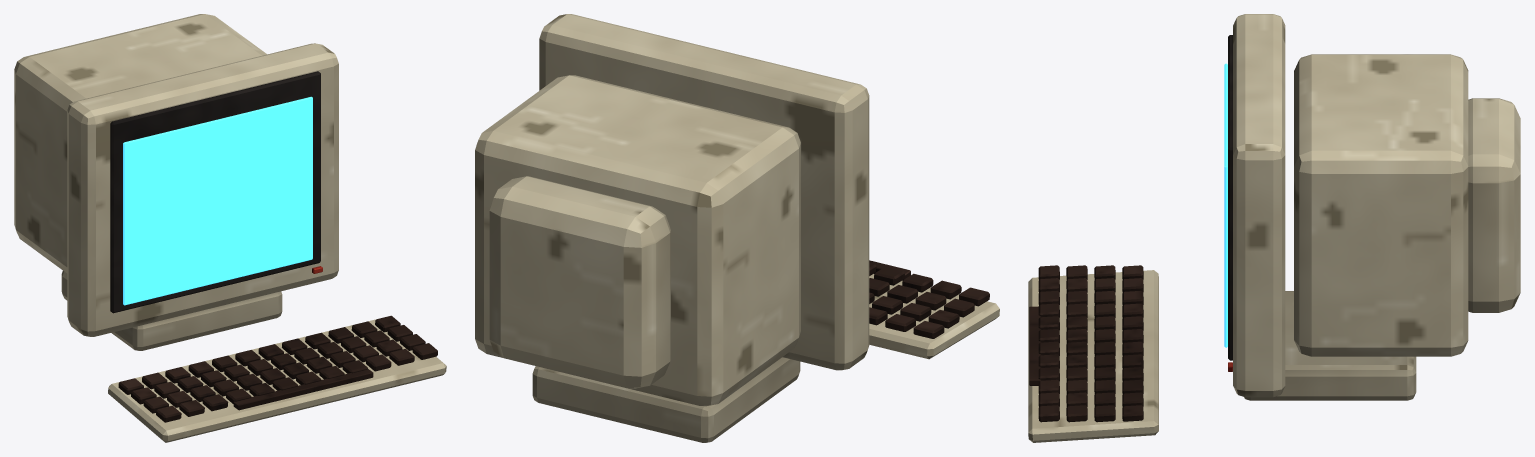
Rendered from computer_old.glb.
The picture shows the model from 3 angles, left to right: view 1: azimuth 30°, elevation 25°; view 2: azimuth 150°, elevation 25°; view 3: azimuth 270°, elevation 25°; orthographic projection. The views are drawn at different scales.
Parts seen in each view (by area): view 1: computer_old; view 2: computer_old; view 3: computer_old.
Boxes of the visible parts, box(x1,y1,x2,y2) form: computer_old: box(14, 14, 446, 442); computer_old: box(475, 14, 999, 442); computer_old: box(1028, 14, 1520, 442).
Bounding box in the file's own units: 0.42 × 0.3649 × 0.5651.
5 materials, 4 textured.
